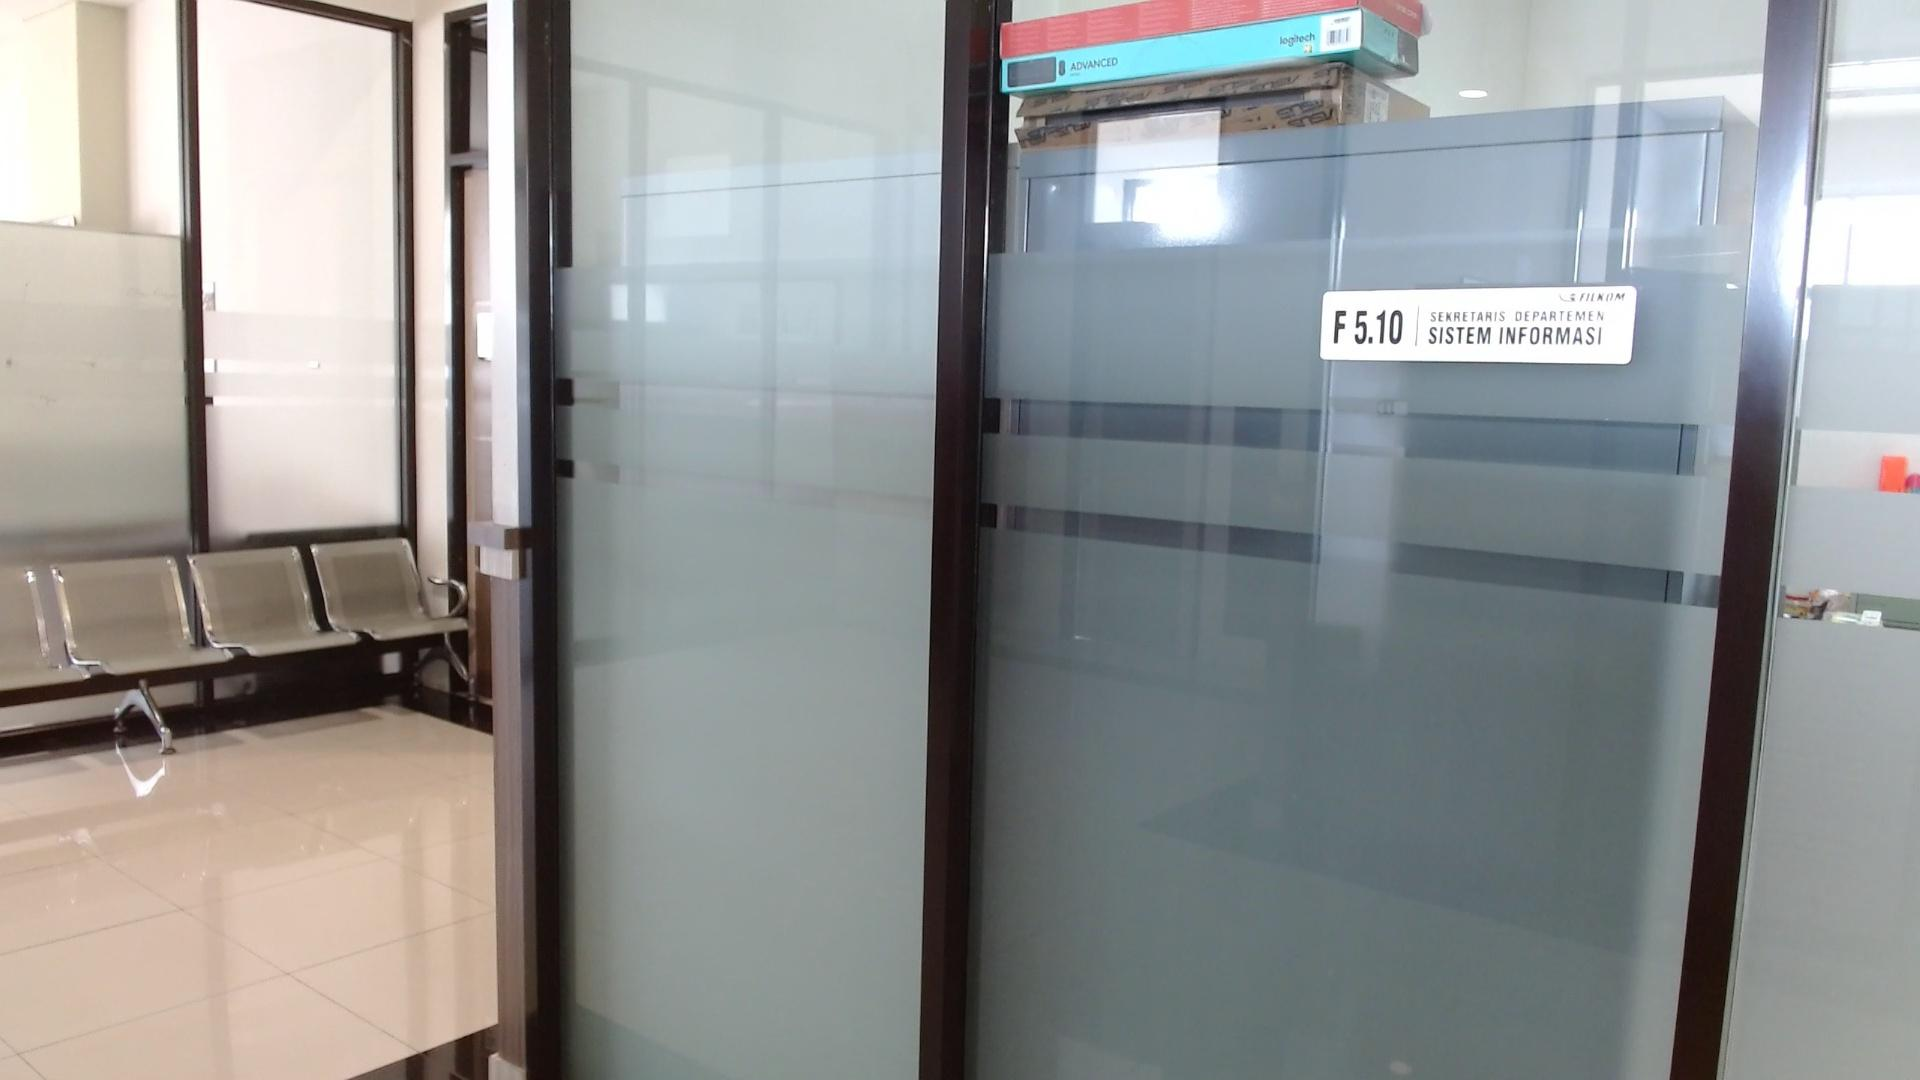plate: (1320, 286, 1638, 365)
